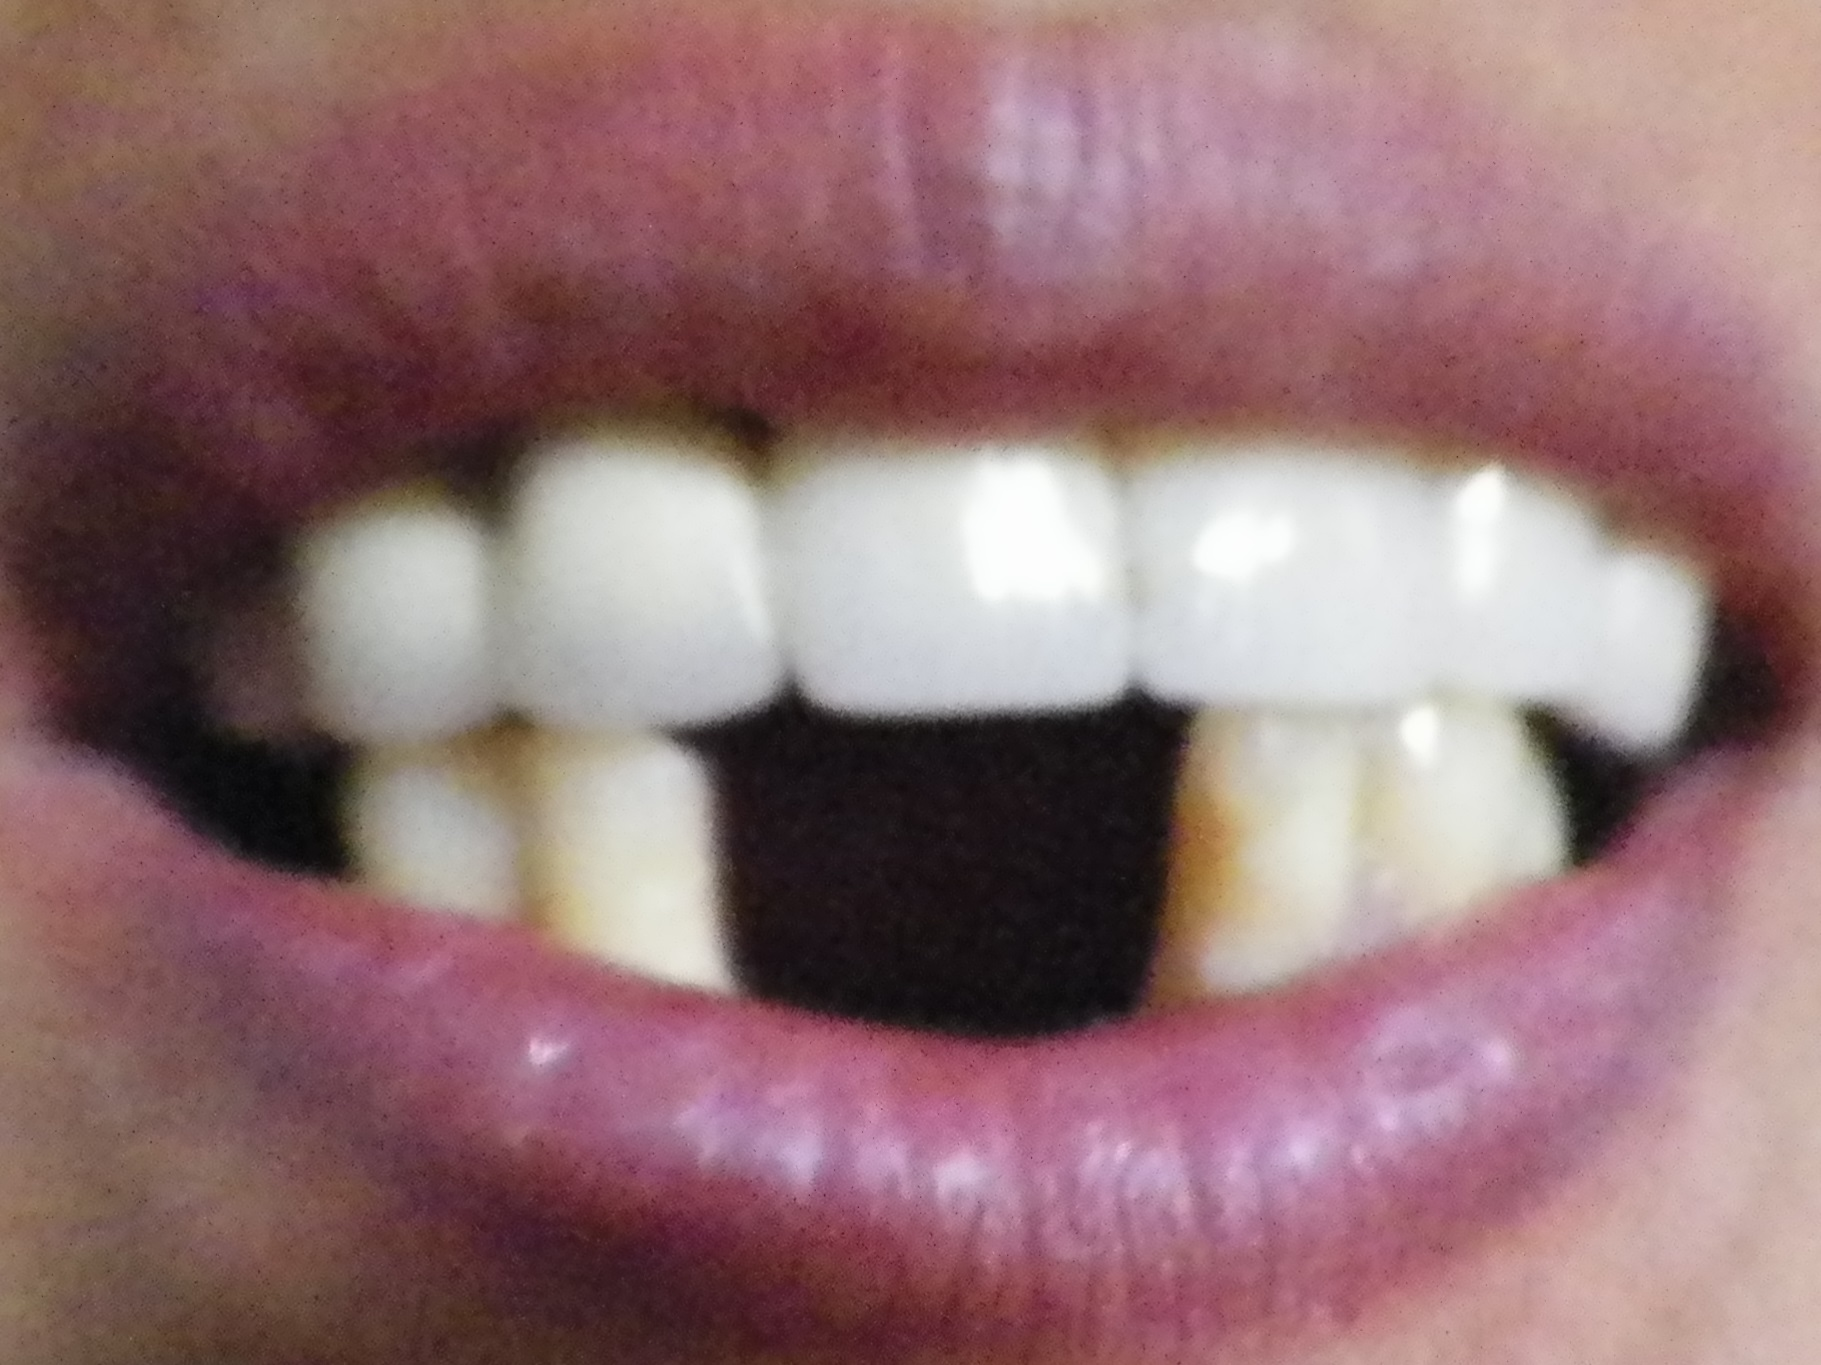boca: (208, 434, 1734, 999)
